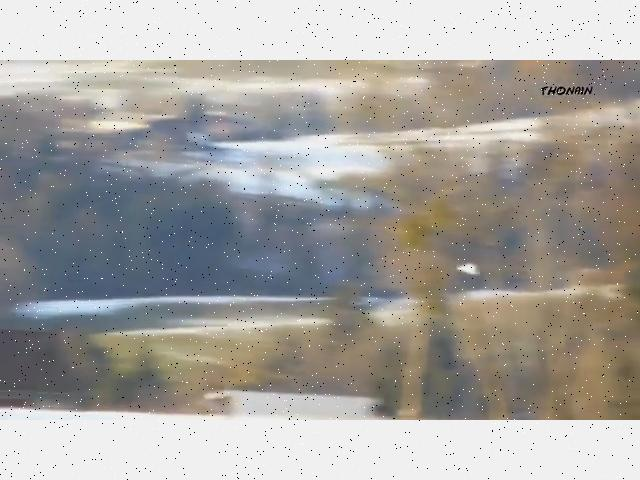Anti-Drone: (442, 253, 492, 284)
